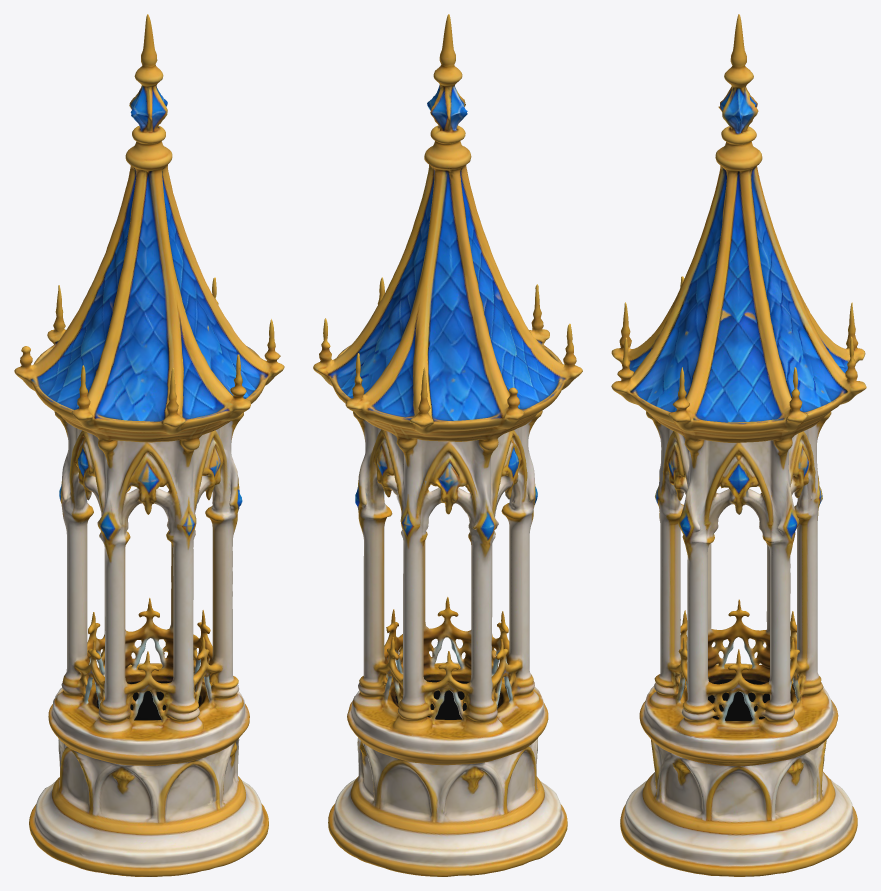
The picture shows the model from 3 angles, left to right: view 1: azimuth 30°, elevation 25°; view 2: azimuth 150°, elevation 25°; view 3: azimuth 270°, elevation 25°; orthographic projection.
Visible parts, largest first — view 1: tripo_node_b08da89c-7a0a-4500-9a0f-b01082e3a8fc; view 2: tripo_node_b08da89c-7a0a-4500-9a0f-b01082e3a8fc; view 3: tripo_node_b08da89c-7a0a-4500-9a0f-b01082e3a8fc.
Part boxes in pixels (x1=…): tripo_node_b08da89c-7a0a-4500-9a0f-b01082e3a8fc: x1=14, y1=14, x2=284, y2=876; tripo_node_b08da89c-7a0a-4500-9a0f-b01082e3a8fc: x1=313, y1=14, x2=582, y2=876; tripo_node_b08da89c-7a0a-4500-9a0f-b01082e3a8fc: x1=611, y1=14, x2=866, y2=876.
Size of the model in its own units: 0.2615 by 0.9743 by 0.2774.
1 material, 1 textured.
